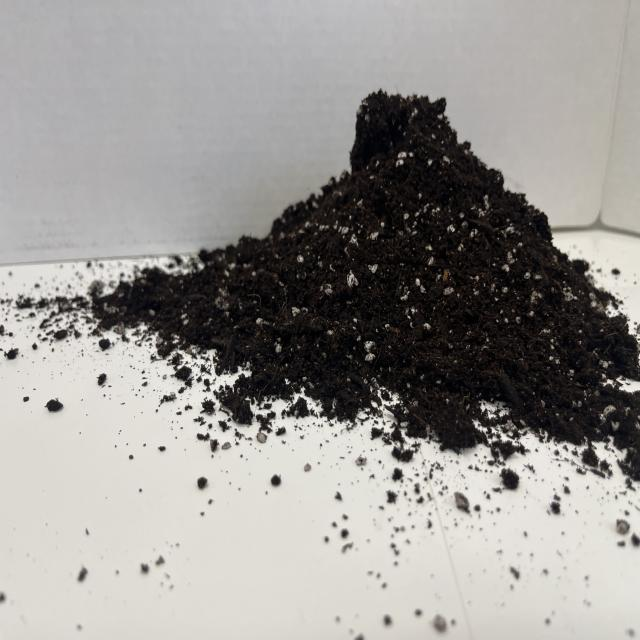soil: (90, 86, 638, 474)
